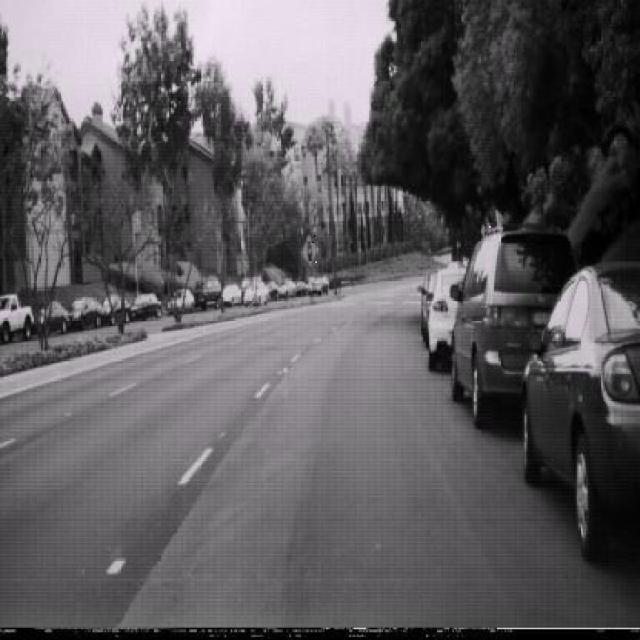signalAhead: (302, 234, 320, 268), (478, 214, 492, 241)
